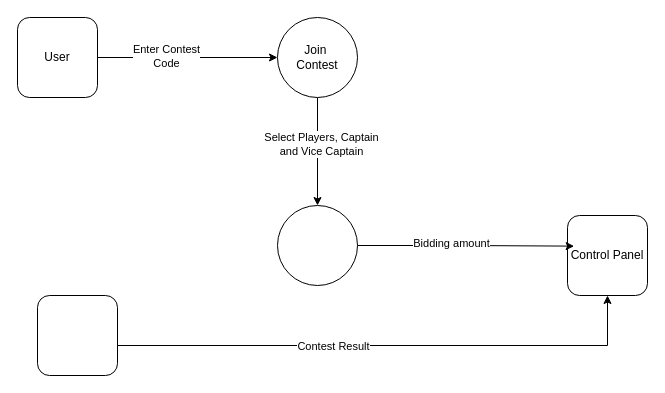
Image size: 665x393. Some labels were removed from this diagram. Here are the shapes that lost their labels. From the top down, the centre of each, then its label:
the point at 317,245: Create Team
the point at 77,335: Administartor
